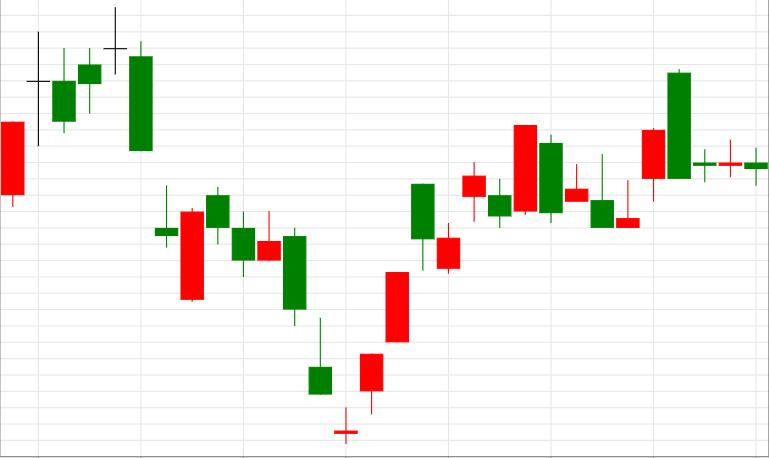morning_star_rise: (206, 187, 383, 444)
